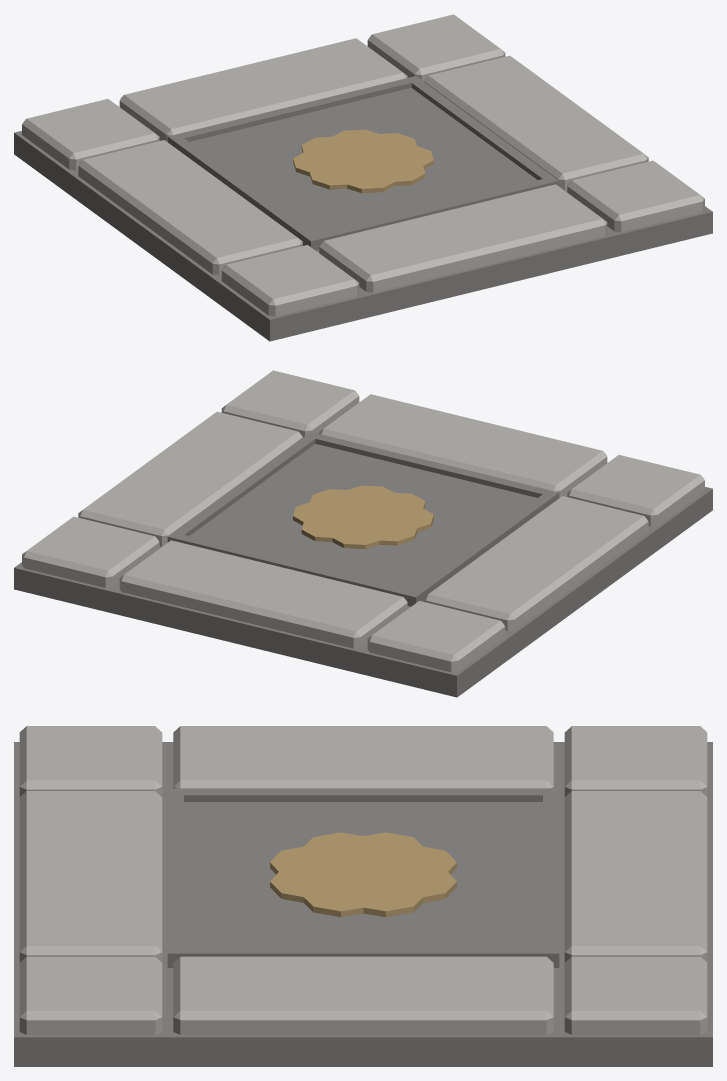
The model's file is tile-dungeon-floor-memorial.fbx.
3 renders of one model, top to bottom at view 1: azimuth 30°, elevation 25°; view 2: azimuth 150°, elevation 25°; view 3: azimuth 270°, elevation 25°, orthographic. The views are drawn at different scales.
Parts seen in each view (by area): view 1: tile-dungeon-floor-memorial; view 2: tile-dungeon-floor-memorial; view 3: tile-dungeon-floor-memorial.
Boxes of the visible parts, x1=… form: tile-dungeon-floor-memorial: x1=14, y1=14, x2=712, y2=341; tile-dungeon-floor-memorial: x1=14, y1=370, x2=712, y2=697; tile-dungeon-floor-memorial: x1=14, y1=726, x2=712, y2=1066.
Bounding box in the file's own units: 1.5 × 0.12 × 1.5.
